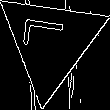L_E: (25, 23, 76, 61)
